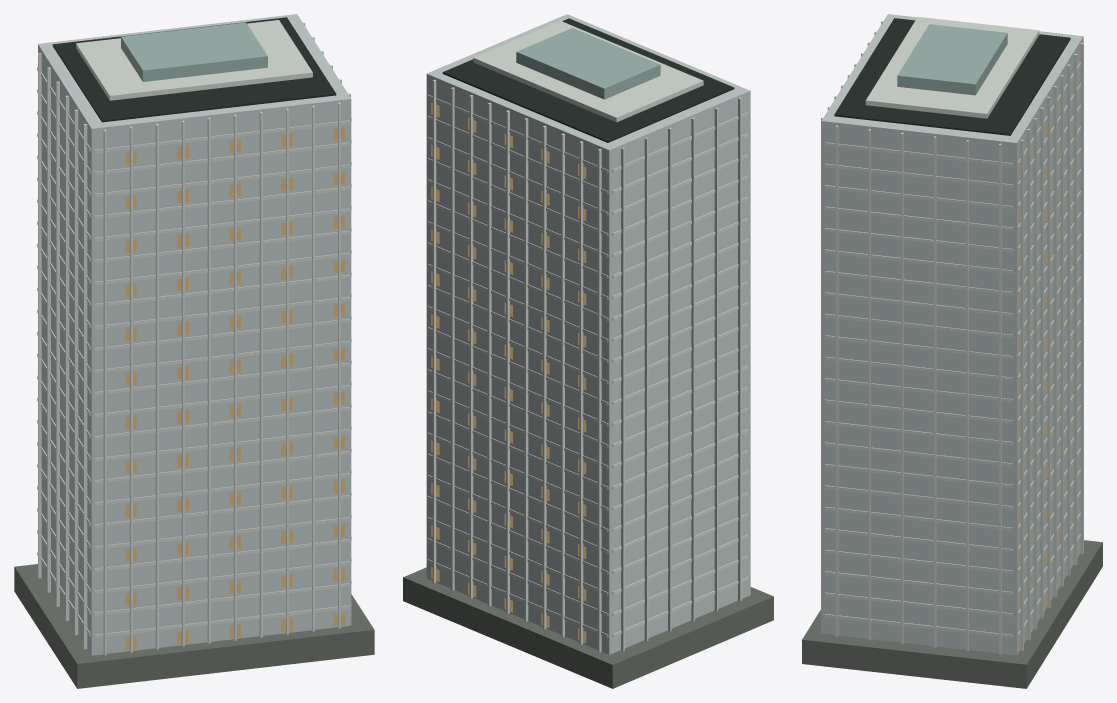
Rendered from hisense-south.glb.
3 renders of one model, left to right at view 1: azimuth 30°, elevation 25°; view 2: azimuth 150°, elevation 25°; view 3: azimuth 270°, elevation 25°, orthographic. The views are drawn at different scales.
Parts seen in each view (by area): view 1: envelope, fins, floor_bands, podium, roof_deck, night_windows, crown_box, crown_box.001; view 2: envelope, fins, floor_bands, podium, roof_deck, crown_box, crown_box.001, night_windows; view 3: envelope, fins, floor_bands, podium, roof_deck, crown_box, crown_box.001, night_windows.
Boxes of the visible parts, x1,y1,x2,y2 form: envelope: (38, 14, 351, 655); fins: (38, 22, 350, 655); floor_bands: (37, 67, 351, 637); podium: (14, 564, 374, 688); roof_deck: (52, 17, 336, 122); night_windows: (125, 127, 344, 649); crown_box: (76, 20, 312, 100); crown_box.001: (121, 22, 267, 81); envelope: (426, 14, 750, 654); fins: (432, 79, 741, 652); floor_bands: (427, 94, 748, 637); podium: (403, 567, 773, 688); roof_deck: (442, 18, 734, 142); crown_box: (473, 20, 703, 122); crown_box.001: (516, 28, 660, 99); night_windows: (431, 102, 586, 643); envelope: (821, 14, 1083, 655); fins: (821, 21, 1083, 654); floor_bands: (821, 62, 1080, 638); podium: (802, 540, 1102, 688); roof_deck: (834, 18, 1070, 135); crown_box: (865, 17, 1039, 118); crown_box.001: (897, 24, 1007, 95); night_windows: (1019, 79, 1073, 650).
Bounding box in the file's own units: 93.81 × 166 × 80.9.
